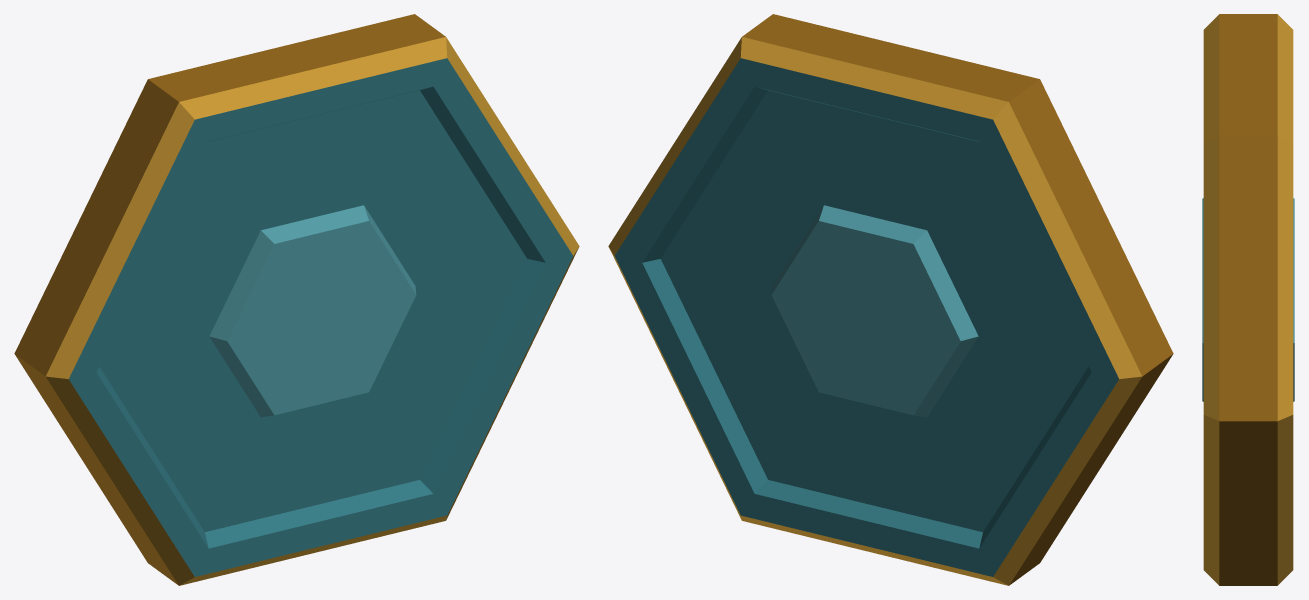
File: Coin_07.glb
The picture shows the model from 3 angles, left to right: view 1: azimuth 30°, elevation 25°; view 2: azimuth 150°, elevation 25°; view 3: azimuth 270°, elevation 25°; orthographic projection. The views are drawn at different scales.
Visible parts, largest first — view 1: Coin_07; view 2: Coin_07; view 3: Coin_07.
Part boxes in pixels (x1,y1,x2,y2): Coin_07: (14,14,579,585); Coin_07: (608,14,1173,585); Coin_07: (1202,14,1294,585).
Bounding box in the file's own units: 1.64 × 1.42 × 0.264.
